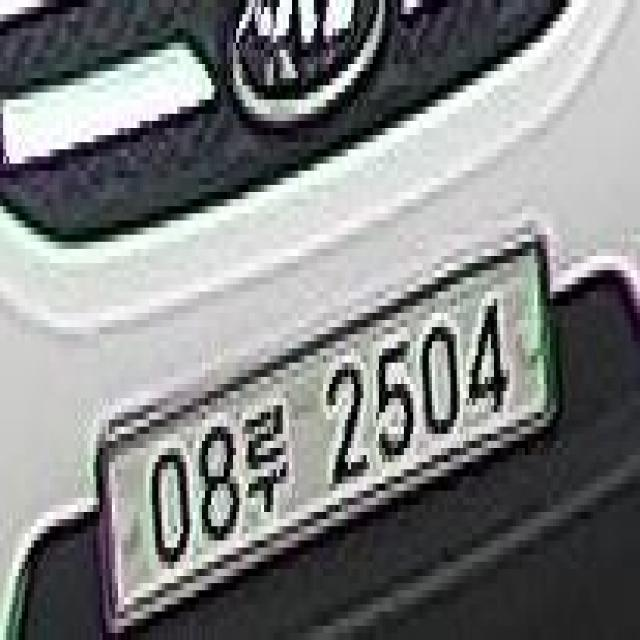illegal_plate: (90, 237, 562, 630)
